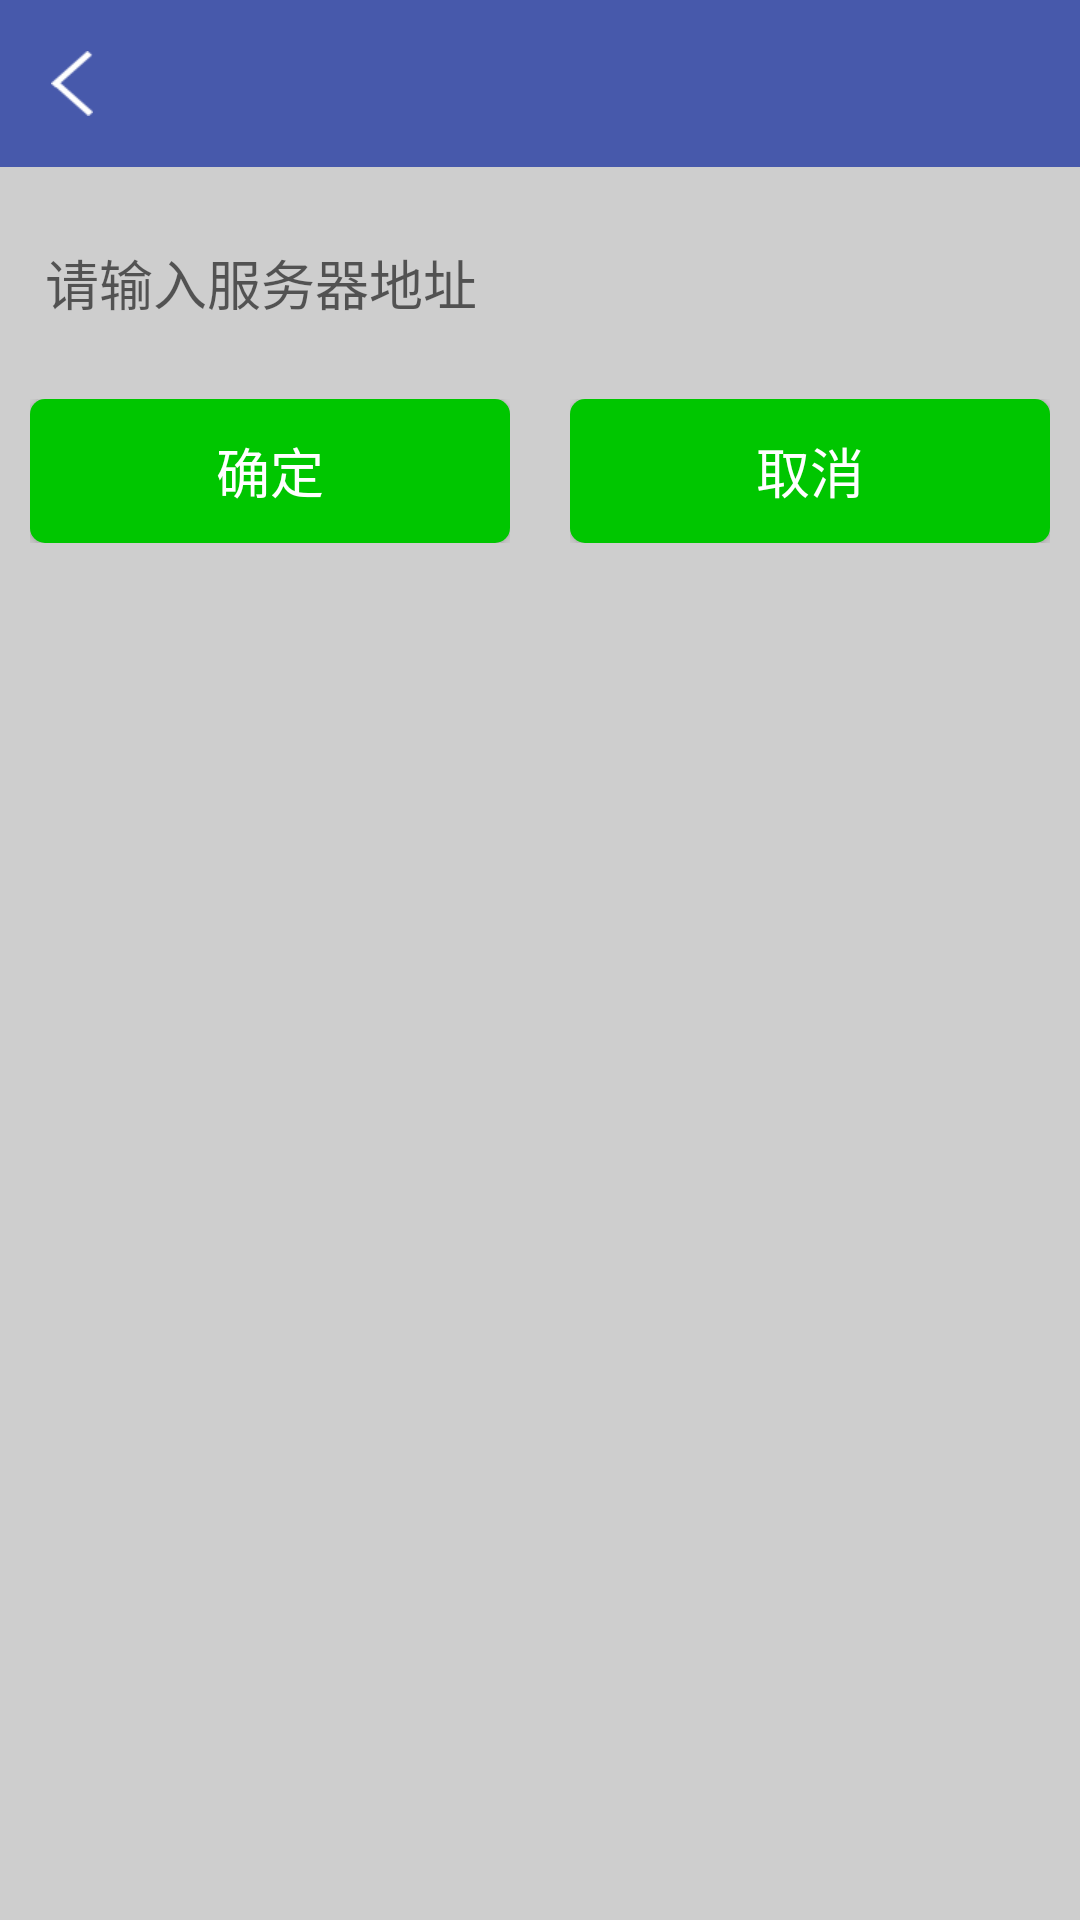

Named icons in this screenshot (1080px x 1920px) and their centers, [x,y]:
arrow back: [72,83]
